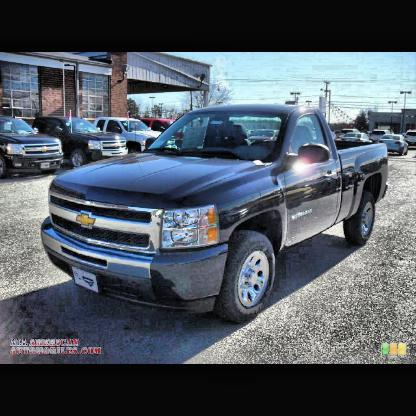Chevrolet Silverado 1500 Regular Cab 2012: (41, 104, 391, 323)
